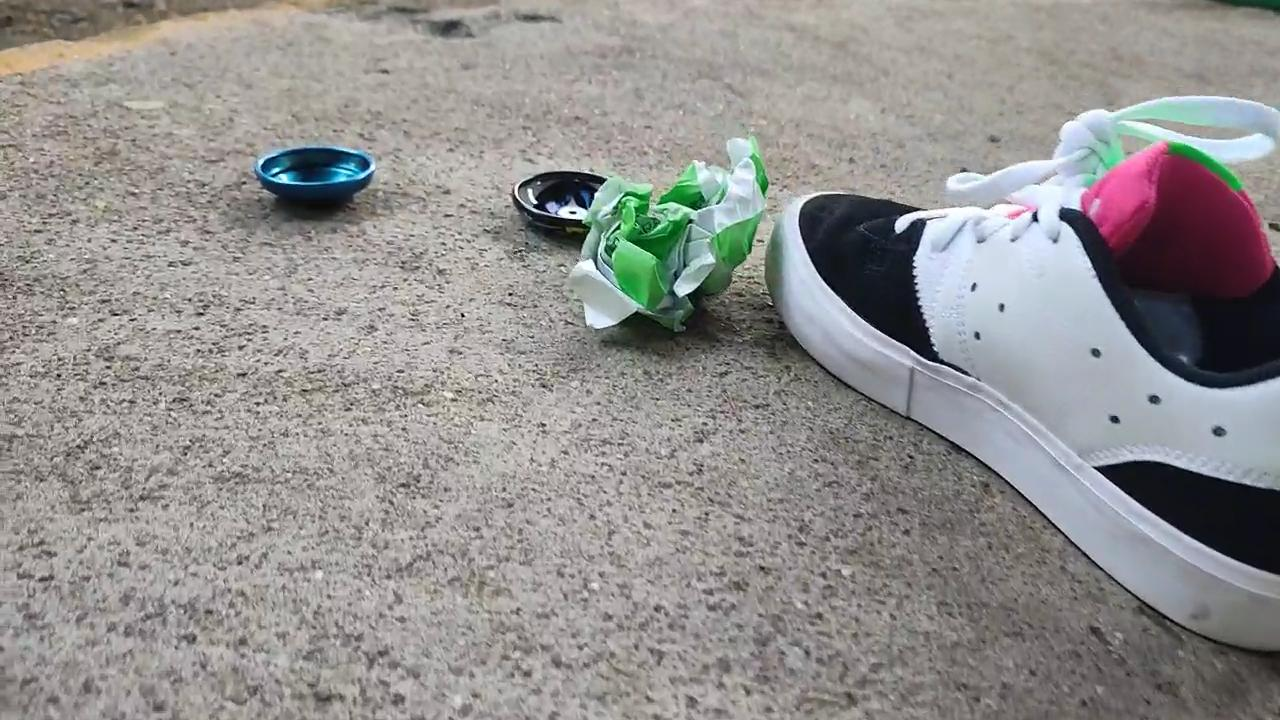Paper: (564, 121, 772, 344)
